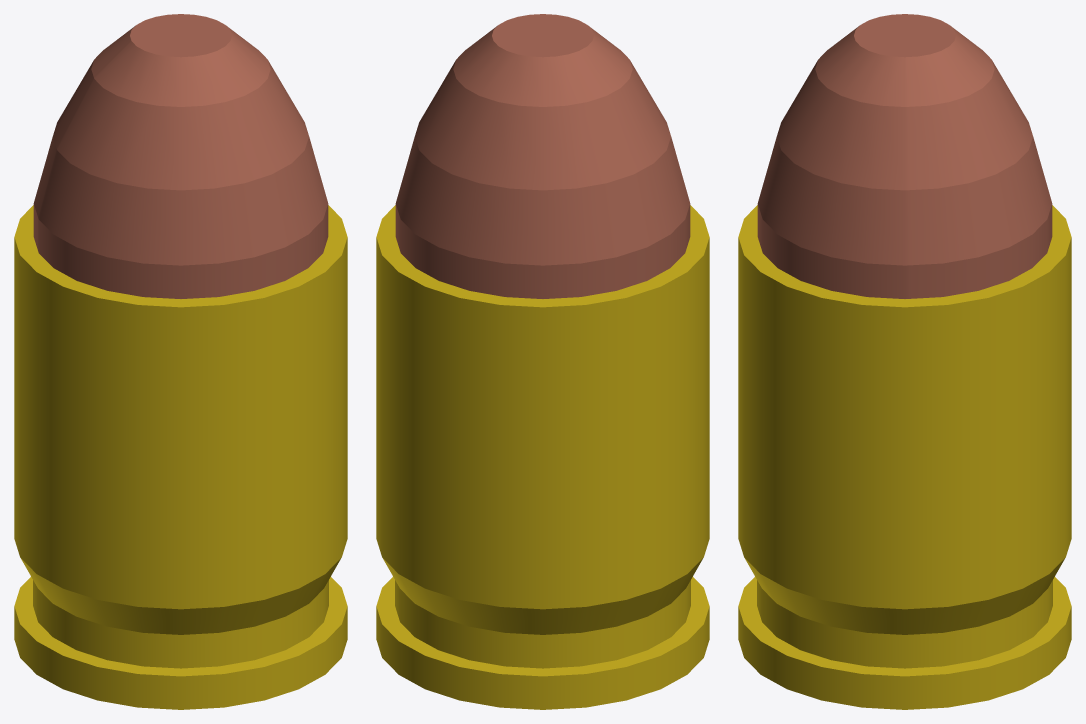
Rendered from ammo_pistol.fbx.
The picture shows the model from 3 angles, left to right: view 1: azimuth 30°, elevation 25°; view 2: azimuth 150°, elevation 25°; view 3: azimuth 270°, elevation 25°; orthographic projection.
Parts seen in each view (by area): view 1: Mesh1_Group2 Group1 Model, Mesh2_Group3 Group1 Model; view 2: Mesh1_Group2 Group1 Model, Mesh2_Group3 Group1 Model; view 3: Mesh1_Group2 Group1 Model, Mesh2_Group3 Group1 Model.
Boxes of the visible parts, box(x1,y1,x2,y2) form: Mesh1_Group2 Group1 Model: box(14, 205, 347, 709); Mesh2_Group3 Group1 Model: box(33, 14, 328, 298); Mesh1_Group2 Group1 Model: box(376, 205, 709, 709); Mesh2_Group3 Group1 Model: box(395, 14, 690, 298); Mesh1_Group2 Group1 Model: box(738, 205, 1071, 709); Mesh2_Group3 Group1 Model: box(757, 14, 1052, 298).
Bounding box in the file's own units: 0.0054 × 0.0108 × 0.0054.
